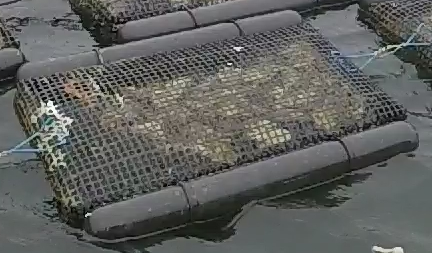bag: (13, 8, 420, 241)
